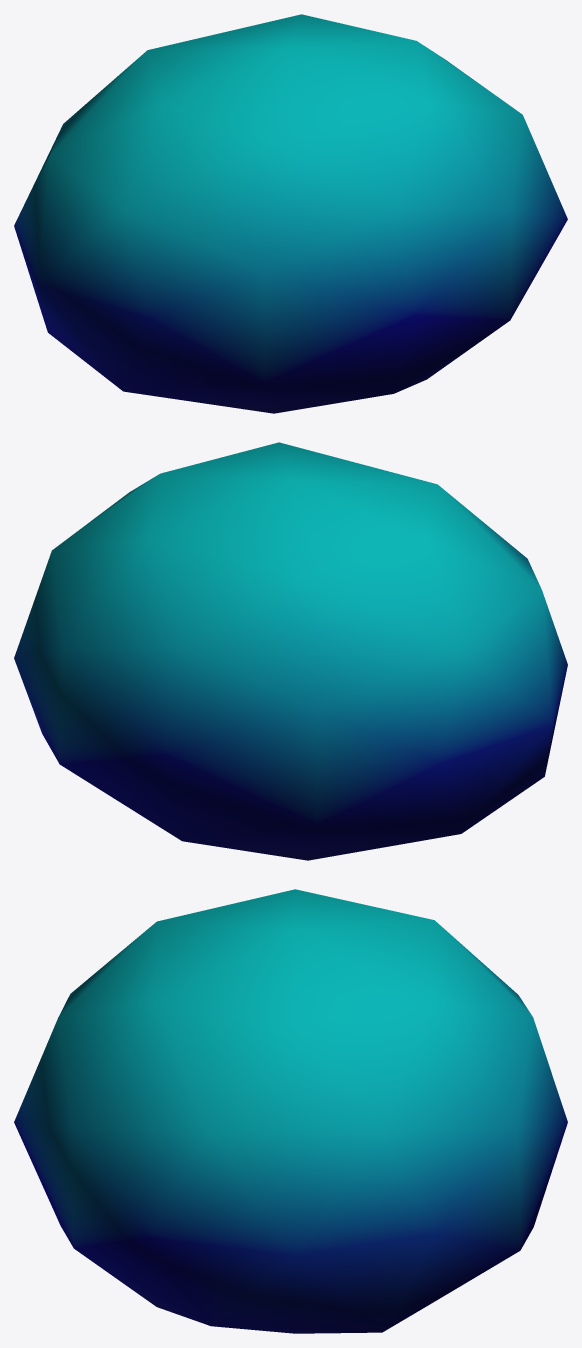
The model's file is RockRounded_2_lod2.glb.
The picture shows the model from 3 angles, top to bottom: view 1: azimuth 30°, elevation 25°; view 2: azimuth 150°, elevation 25°; view 3: azimuth 270°, elevation 25°; orthographic projection. The views are drawn at different scales.
Visible parts, largest first — view 1: RockRounded_2_lod2; view 2: RockRounded_2_lod2; view 3: RockRounded_2_lod2.
Boxes of the visible parts, bbox=[...] form: RockRounded_2_lod2: bbox=[14, 14, 567, 413]; RockRounded_2_lod2: bbox=[14, 442, 567, 860]; RockRounded_2_lod2: bbox=[14, 889, 567, 1333].
Bounding box in the file's own units: 1.62 × 0.9986 × 1.41.
